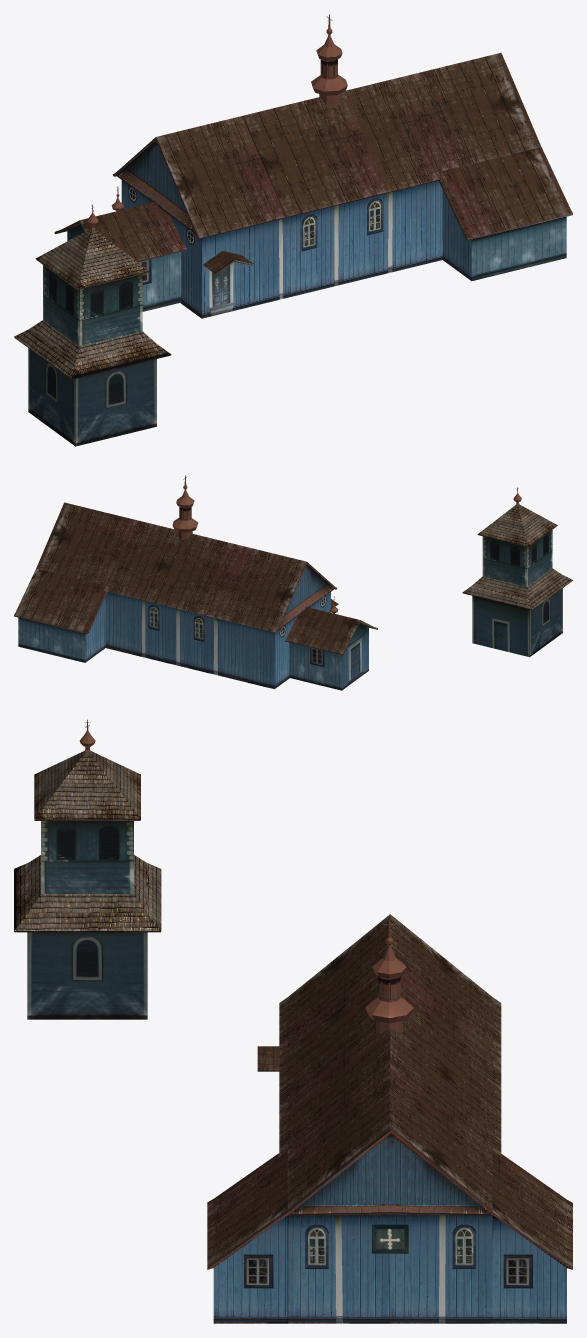
File: hola.fbx
3 renders of one model, top to bottom at view 1: azimuth 30°, elevation 25°; view 2: azimuth 150°, elevation 25°; view 3: azimuth 270°, elevation 25°, orthographic. The views are drawn at different scales.
Parts seen in each view (by area): view 1: hola; view 2: hola; view 3: hola.
Part boxes in pixels (x1,y1,x2,y2): hola: (14,14,572,446); hola: (14,475,572,690); hola: (14,719,572,1323).
Size of the model in its own units: 11.69 by 4.53 by 7.68.
